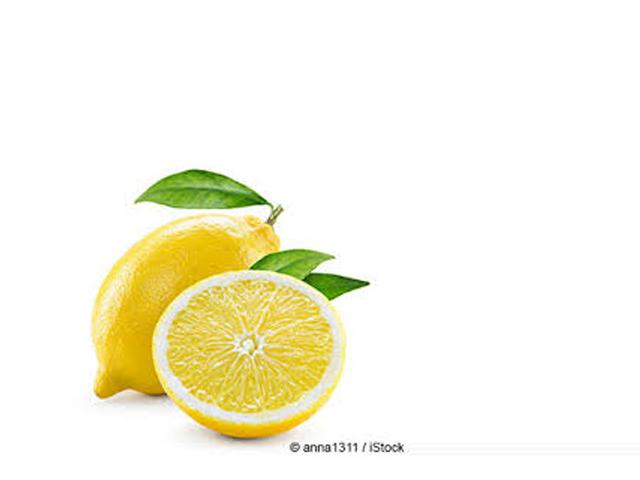lemon: (56, 204, 293, 404)
